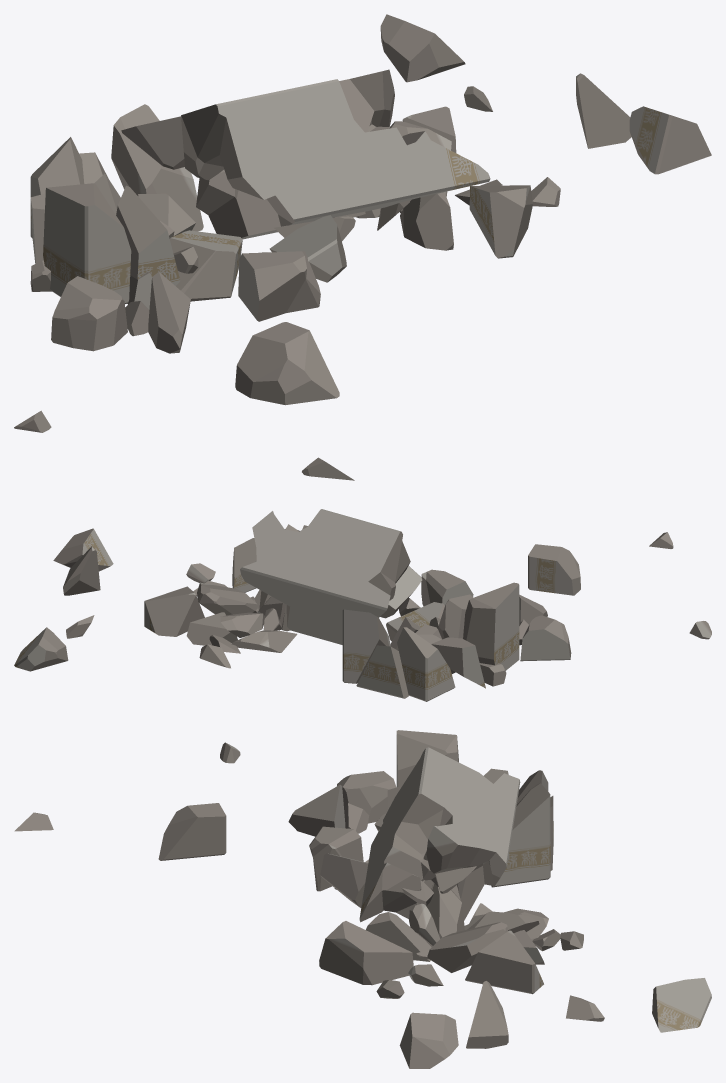
File: ruins.gltf
3 views of the same model, one above another, from view 1: azimuth 30°, elevation 25°; view 2: azimuth 150°, elevation 25°; view 3: azimuth 270°, elevation 25° (orthographic). The views are drawn at different scales.
Visible parts, largest first — view 1: pillar; view 2: pillar; view 3: pillar.
Boxes of the visible parts, left/top/right/bottom form: pillar: left=14, top=14, right=711, bottom=480; pillar: left=14, top=509, right=711, bottom=701; pillar: left=14, top=730, right=711, bottom=1068.
Bounding box in the file's own units: 7.06 × 1.41 × 6.55.
1 material, 1 textured.
